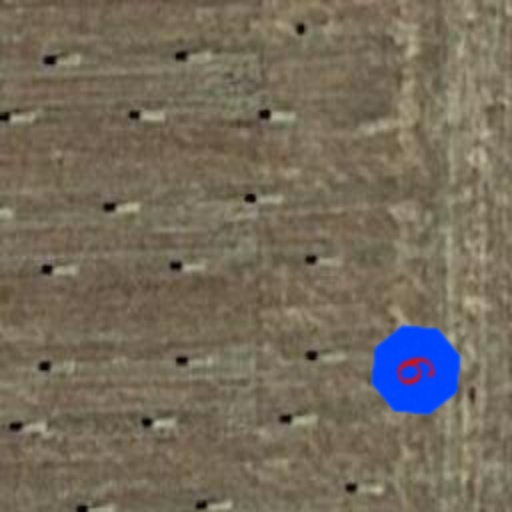octagon: (356, 310, 476, 430)
